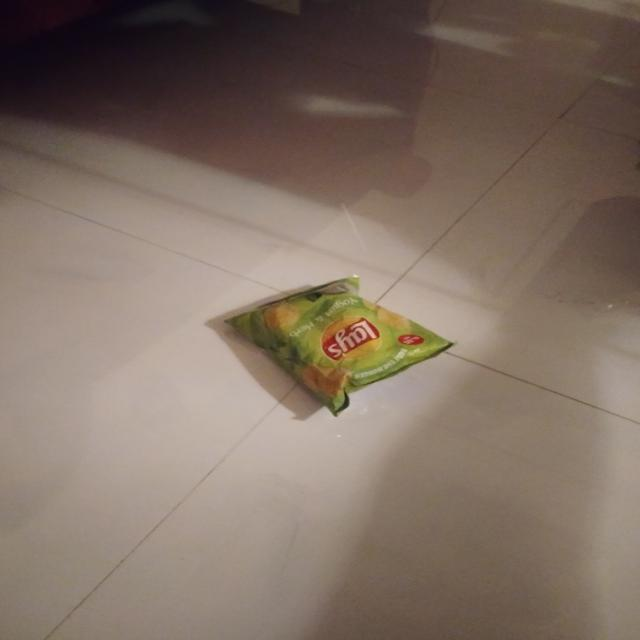Plastic: (228, 276, 458, 414)
